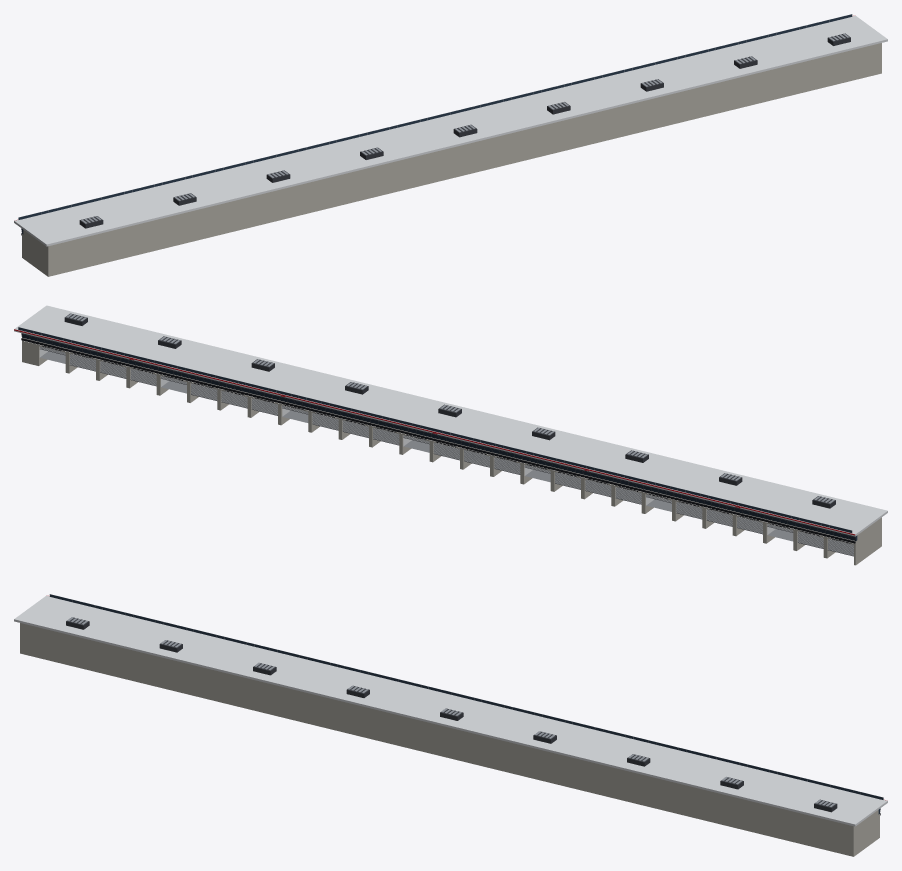
The model's file is pit_building.glb.
3 renders of one model, top to bottom at view 1: azimuth 30°, elevation 25°; view 2: azimuth 150°, elevation 25°; view 3: azimuth 330°, elevation 25°, orthographic.
Visible parts, largest first — view 1: pit_building; view 2: pit_building; view 3: pit_building.
Boxes of the visible parts, bbox=[...] form: pit_building: bbox=[14, 14, 887, 276]; pit_building: bbox=[14, 305, 887, 565]; pit_building: bbox=[14, 594, 887, 856].
Size of the model in its own units: 333 by 14.95 by 22.36.
